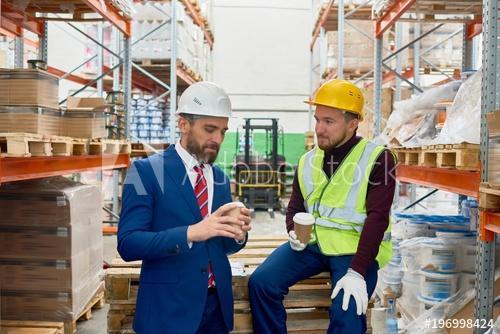helmet: (170, 83, 239, 132), (299, 75, 369, 121)
no-vest: (125, 151, 241, 302)
person: (114, 81, 244, 331), (268, 77, 399, 322)
vest: (293, 142, 398, 262)
